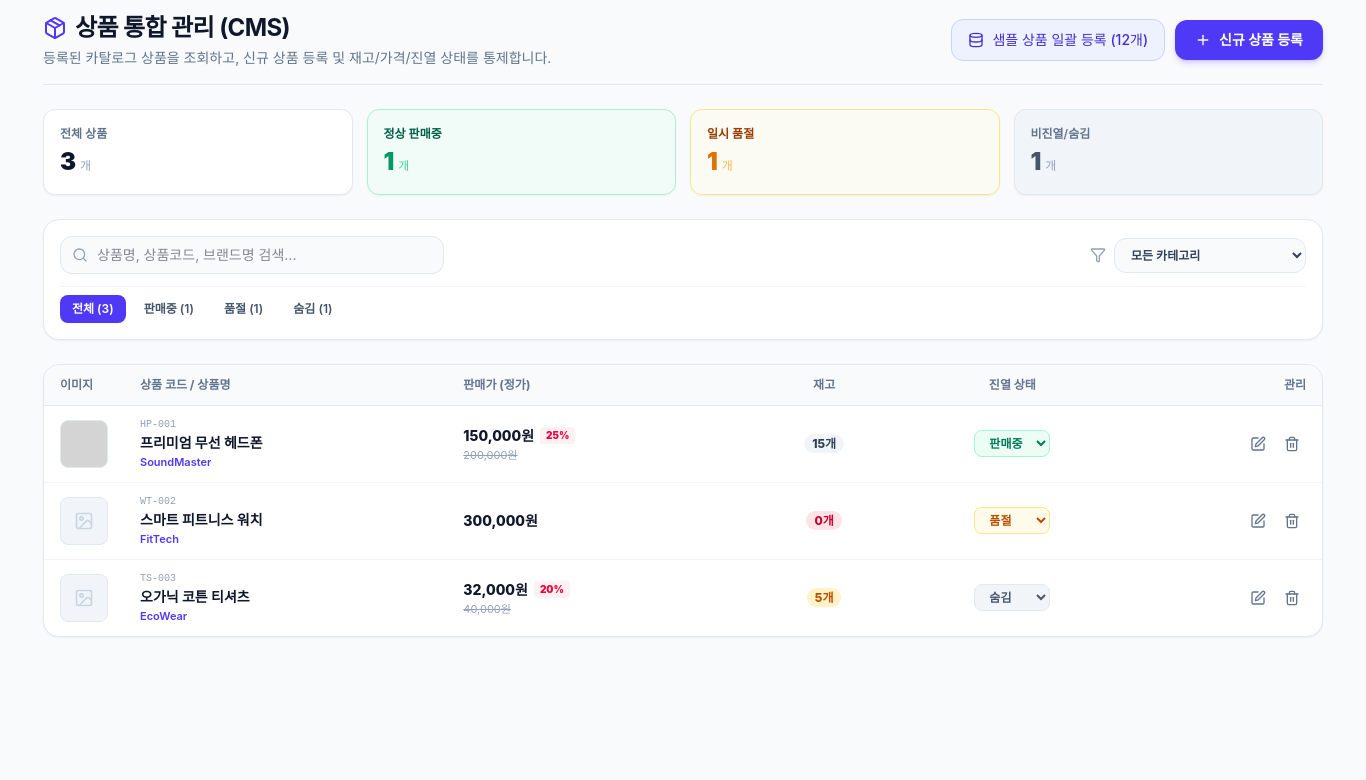
AdminProductListViewer Component › 카테고리 선택 시 해당 카테고리 상품만 표시된다
Select "[대분류] 패션의류" in the dropdown named "카테고리 필터" at [1210, 255], box [1114,238,1306,272]
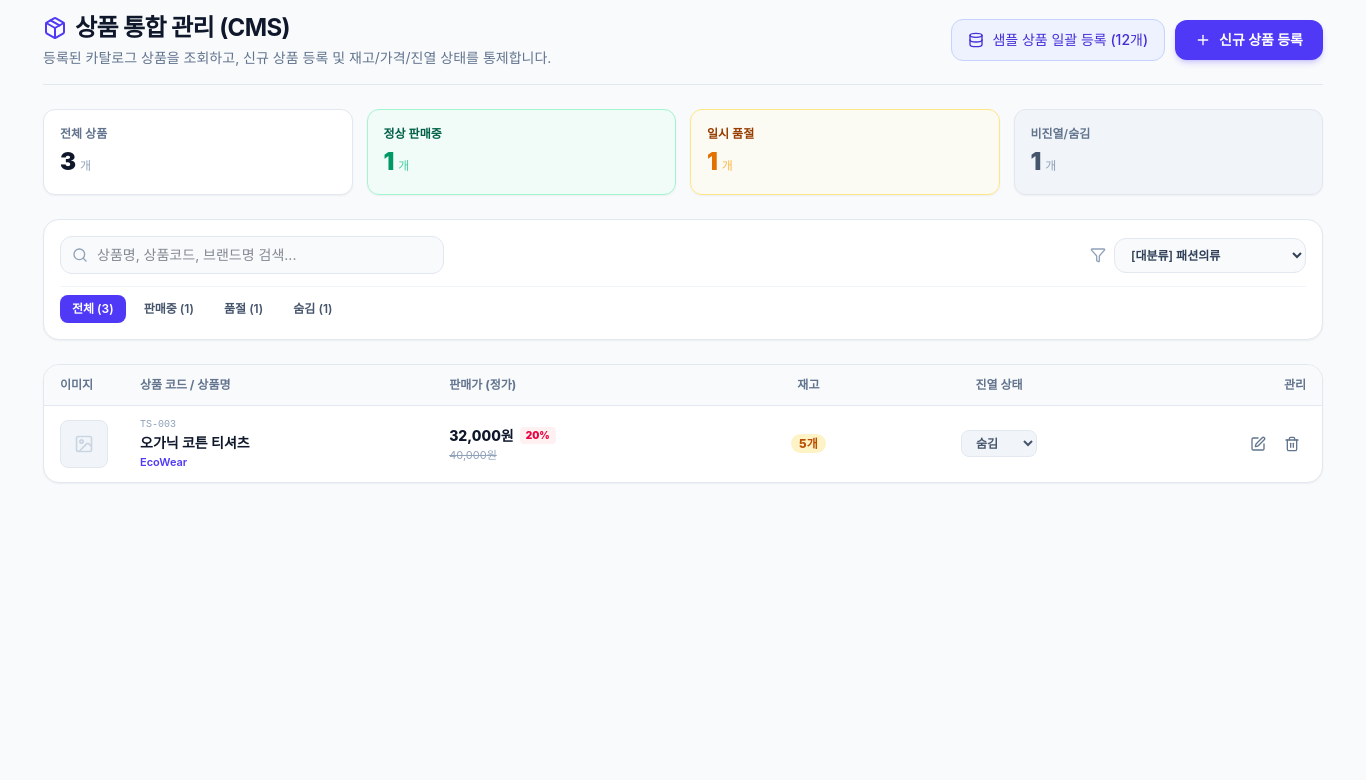
Expected: the text "오가닉 코튼 티셔츠" is shown, [140,434,250,451]
Now the text "프리미엄 무선 헤드폰" is gone
Now the text "스마트 피트니스 워치" is gone
